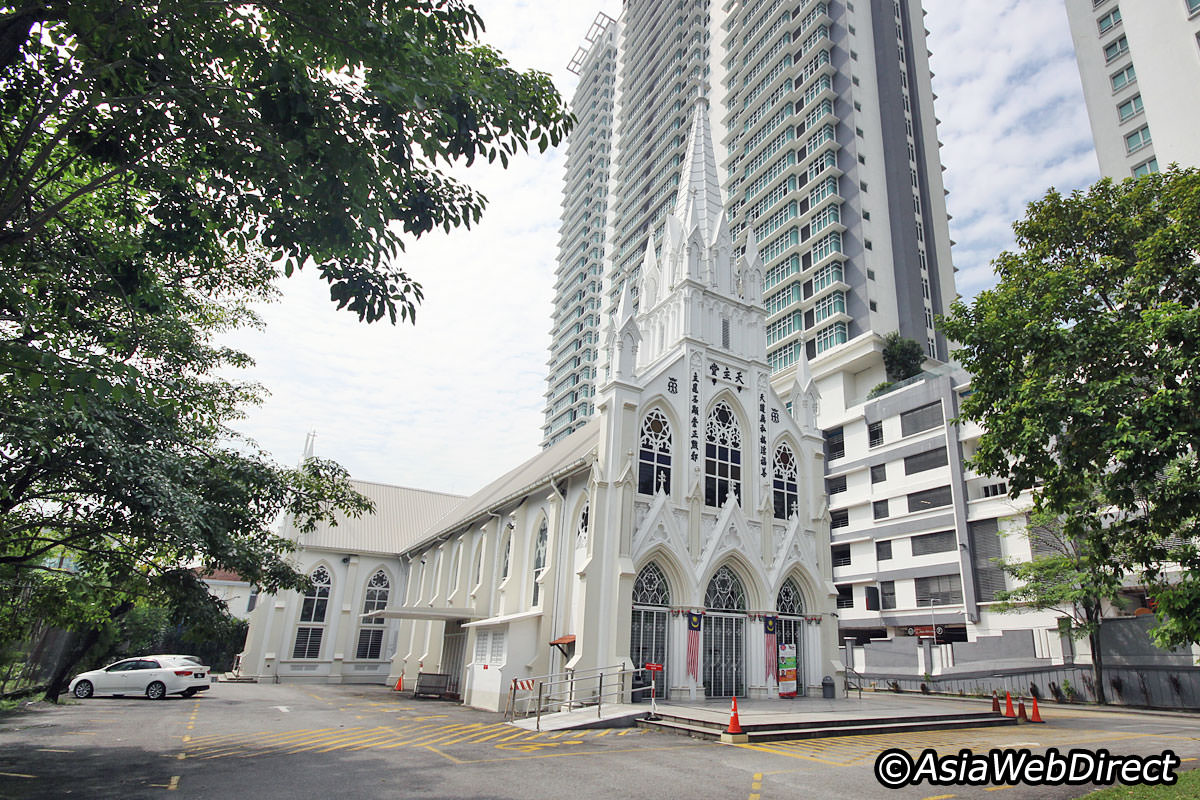Church: (550, 88, 809, 687)
